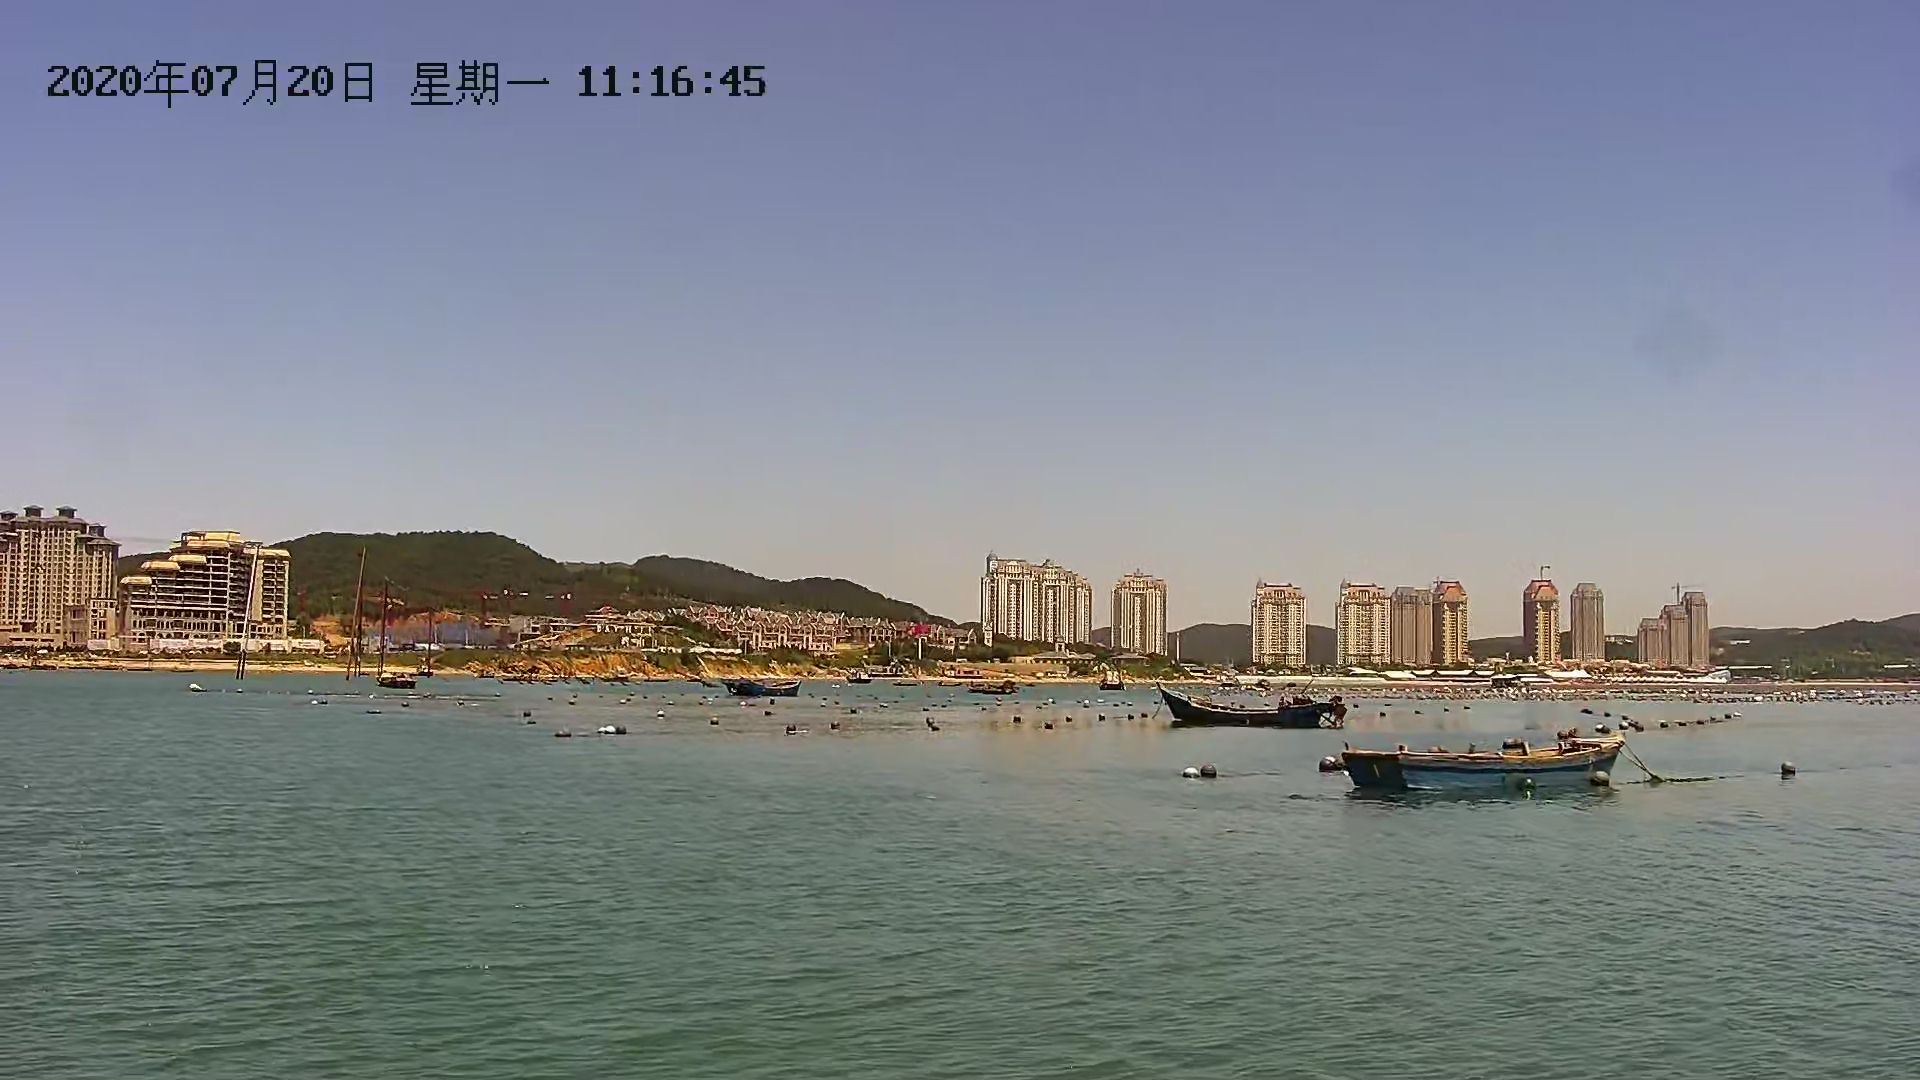ball: (1193, 758, 1222, 783), (1315, 757, 1344, 778), (1778, 760, 1800, 783)
boat: (1336, 735, 1629, 800), (1155, 690, 1357, 737), (709, 671, 808, 702)
